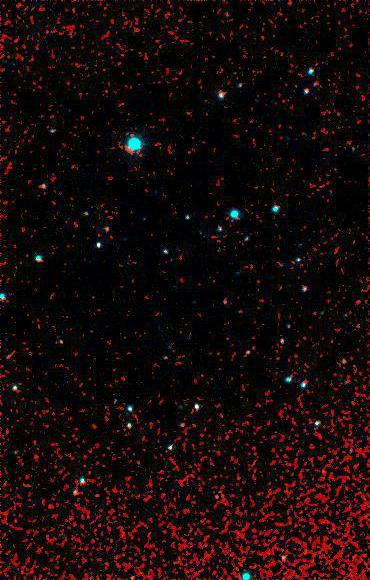star: (81, 479, 111, 509)
